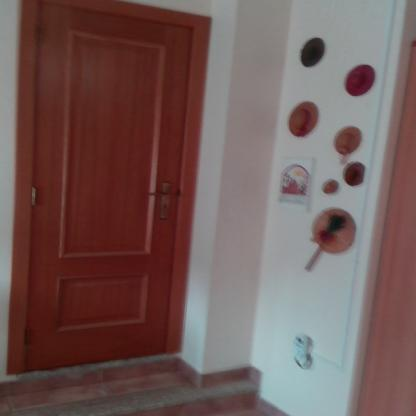door: (34, 2, 174, 355)
hinged: (22, 325, 32, 348), (32, 23, 42, 45), (29, 186, 38, 207)
lever: (144, 190, 176, 200)
